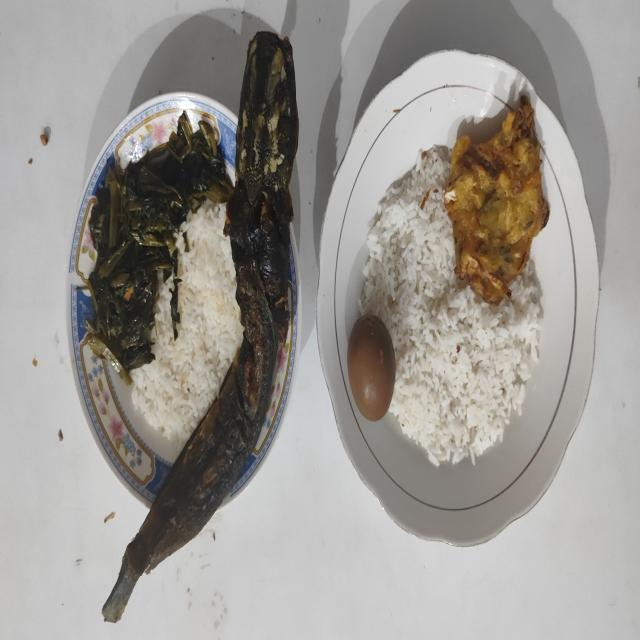nasi_putih: (360, 147, 540, 466), (130, 201, 244, 444)
tumis_kangkung: (84, 110, 235, 384)
